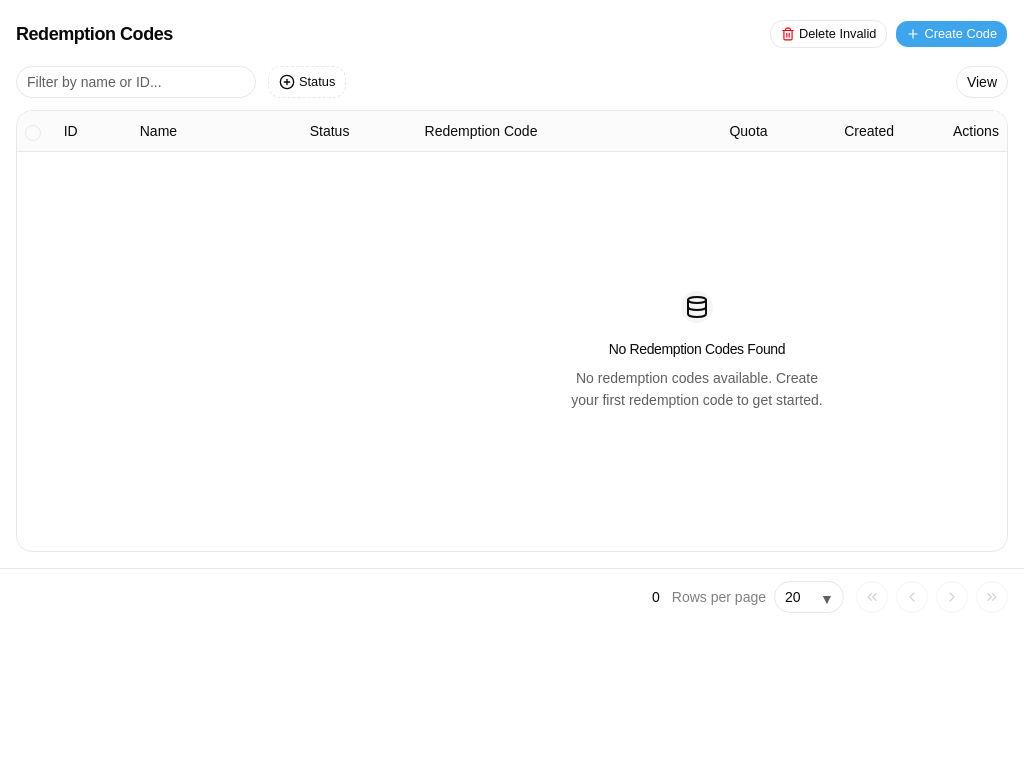
Scenario: RedemptionCodesPage › blocks an empty name before any request is sent
Click the button "Create Code": [952, 34] box [895,20,1008,48]
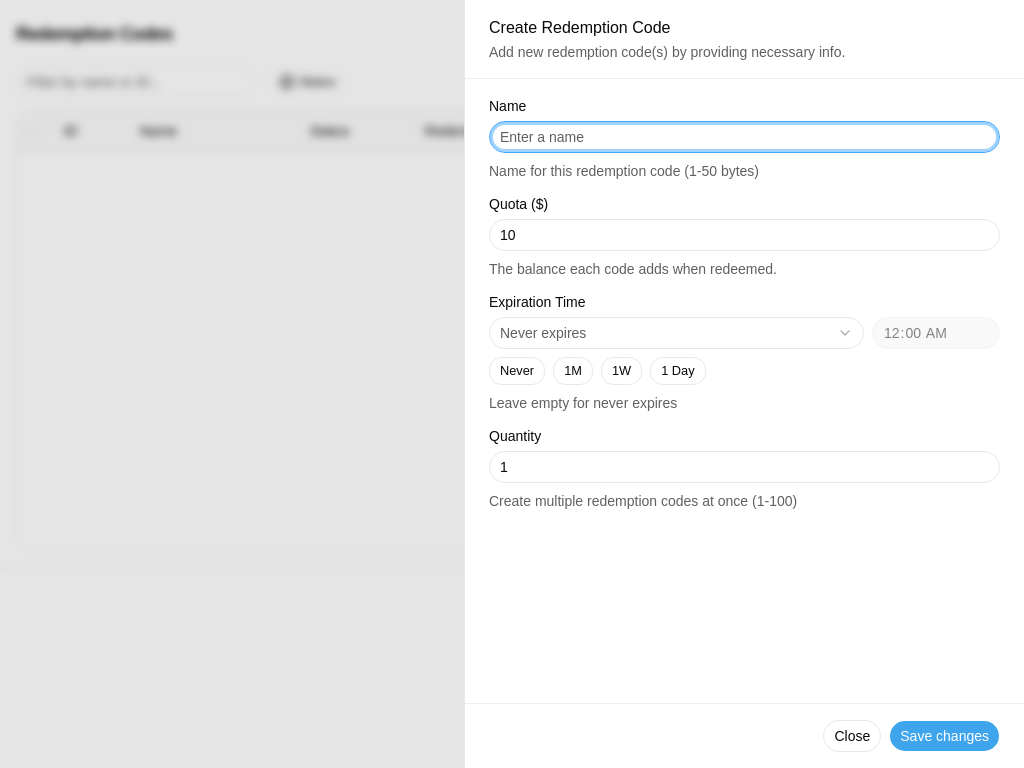
Expected: the field labelled "Name" is shown, [489,121,1000,153]
Click the button "Save changes": [945, 736] box [889,720,1000,752]
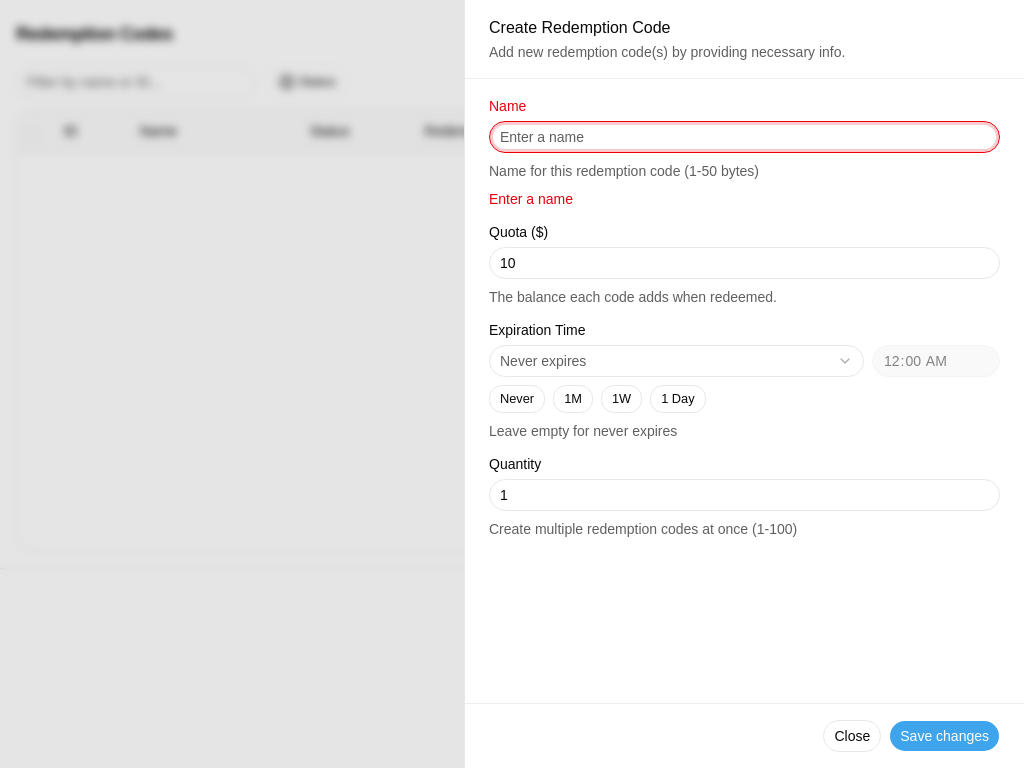
Expected: the text "Enter a name" is shown, [489,191,573,207]
